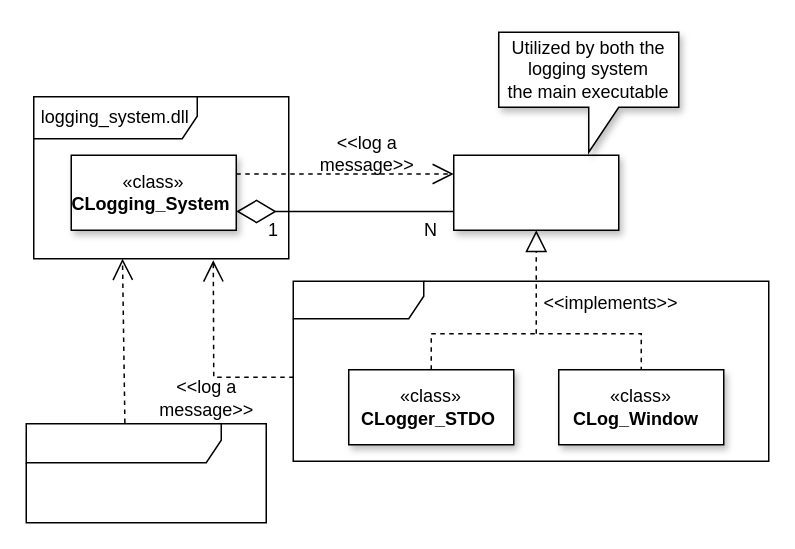
Some shapes in this 795 by 549 pixel diagram are drawn without their labels. The shapes that lost their labels are listed below. From the top down, each one's centre as x and y in pixels, then its label:
At point (537, 194): "«interface» ILogger".
At point (530, 370): "zero_mate.exe".
At point (145, 472): "external_peripheral.dll".
